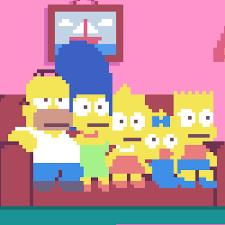Bart: (165, 86, 225, 193)
Homer: (16, 66, 82, 195)
Lisa: (102, 86, 157, 190)
Maggie: (140, 109, 185, 194)
Marge: (49, 36, 120, 191)
